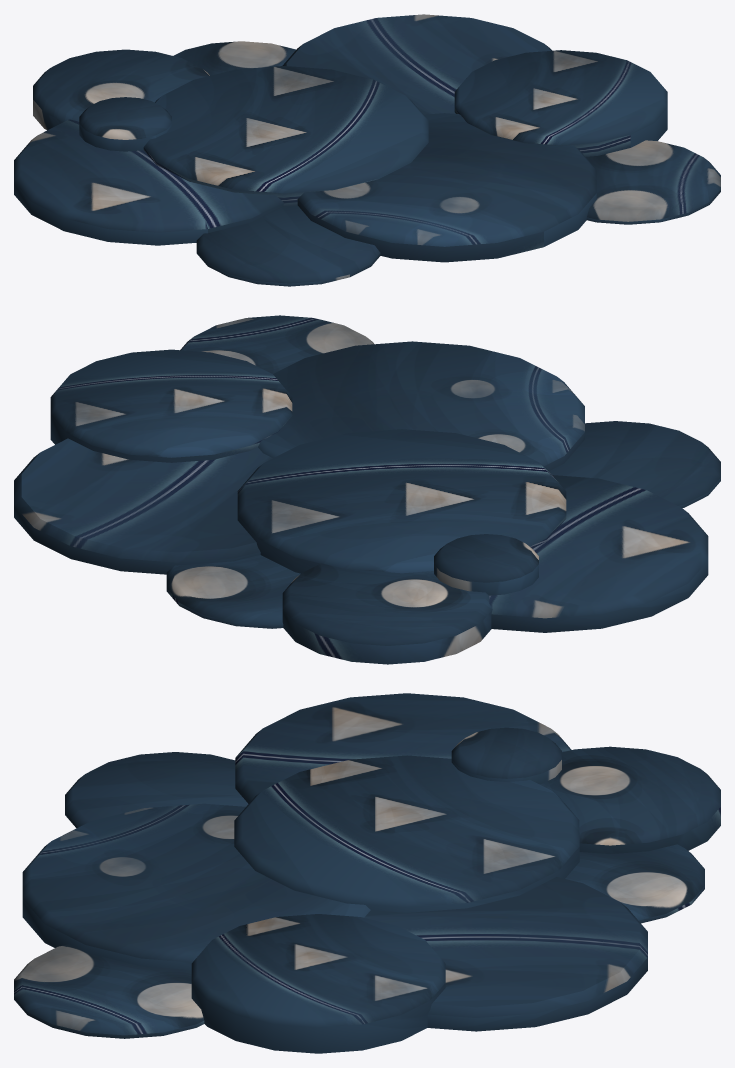
File: Floor_01.FBX
3 renders of one model, top to bottom at view 1: azimuth 30°, elevation 25°; view 2: azimuth 150°, elevation 25°; view 3: azimuth 270°, elevation 25°, orthographic. The views are drawn at different scales.
Visible parts, largest first — view 1: Joypad_Base; view 2: Joypad_Base; view 3: Joypad_Base.
Boxes of the visible parts, box(x1,y1,x2,y2) form: Joypad_Base: box(14, 14, 720, 286); Joypad_Base: box(14, 315, 720, 664); Joypad_Base: box(14, 693, 720, 1053).
Bounding box in the file's own units: 25.27 × 1.53 × 22.12.
